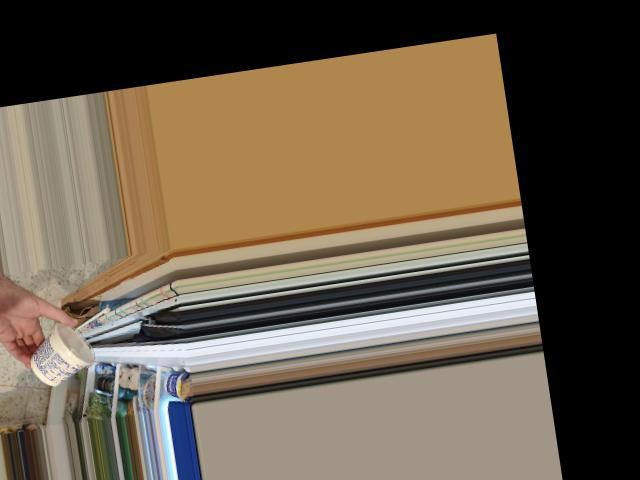cotage: (27, 322, 98, 386)
